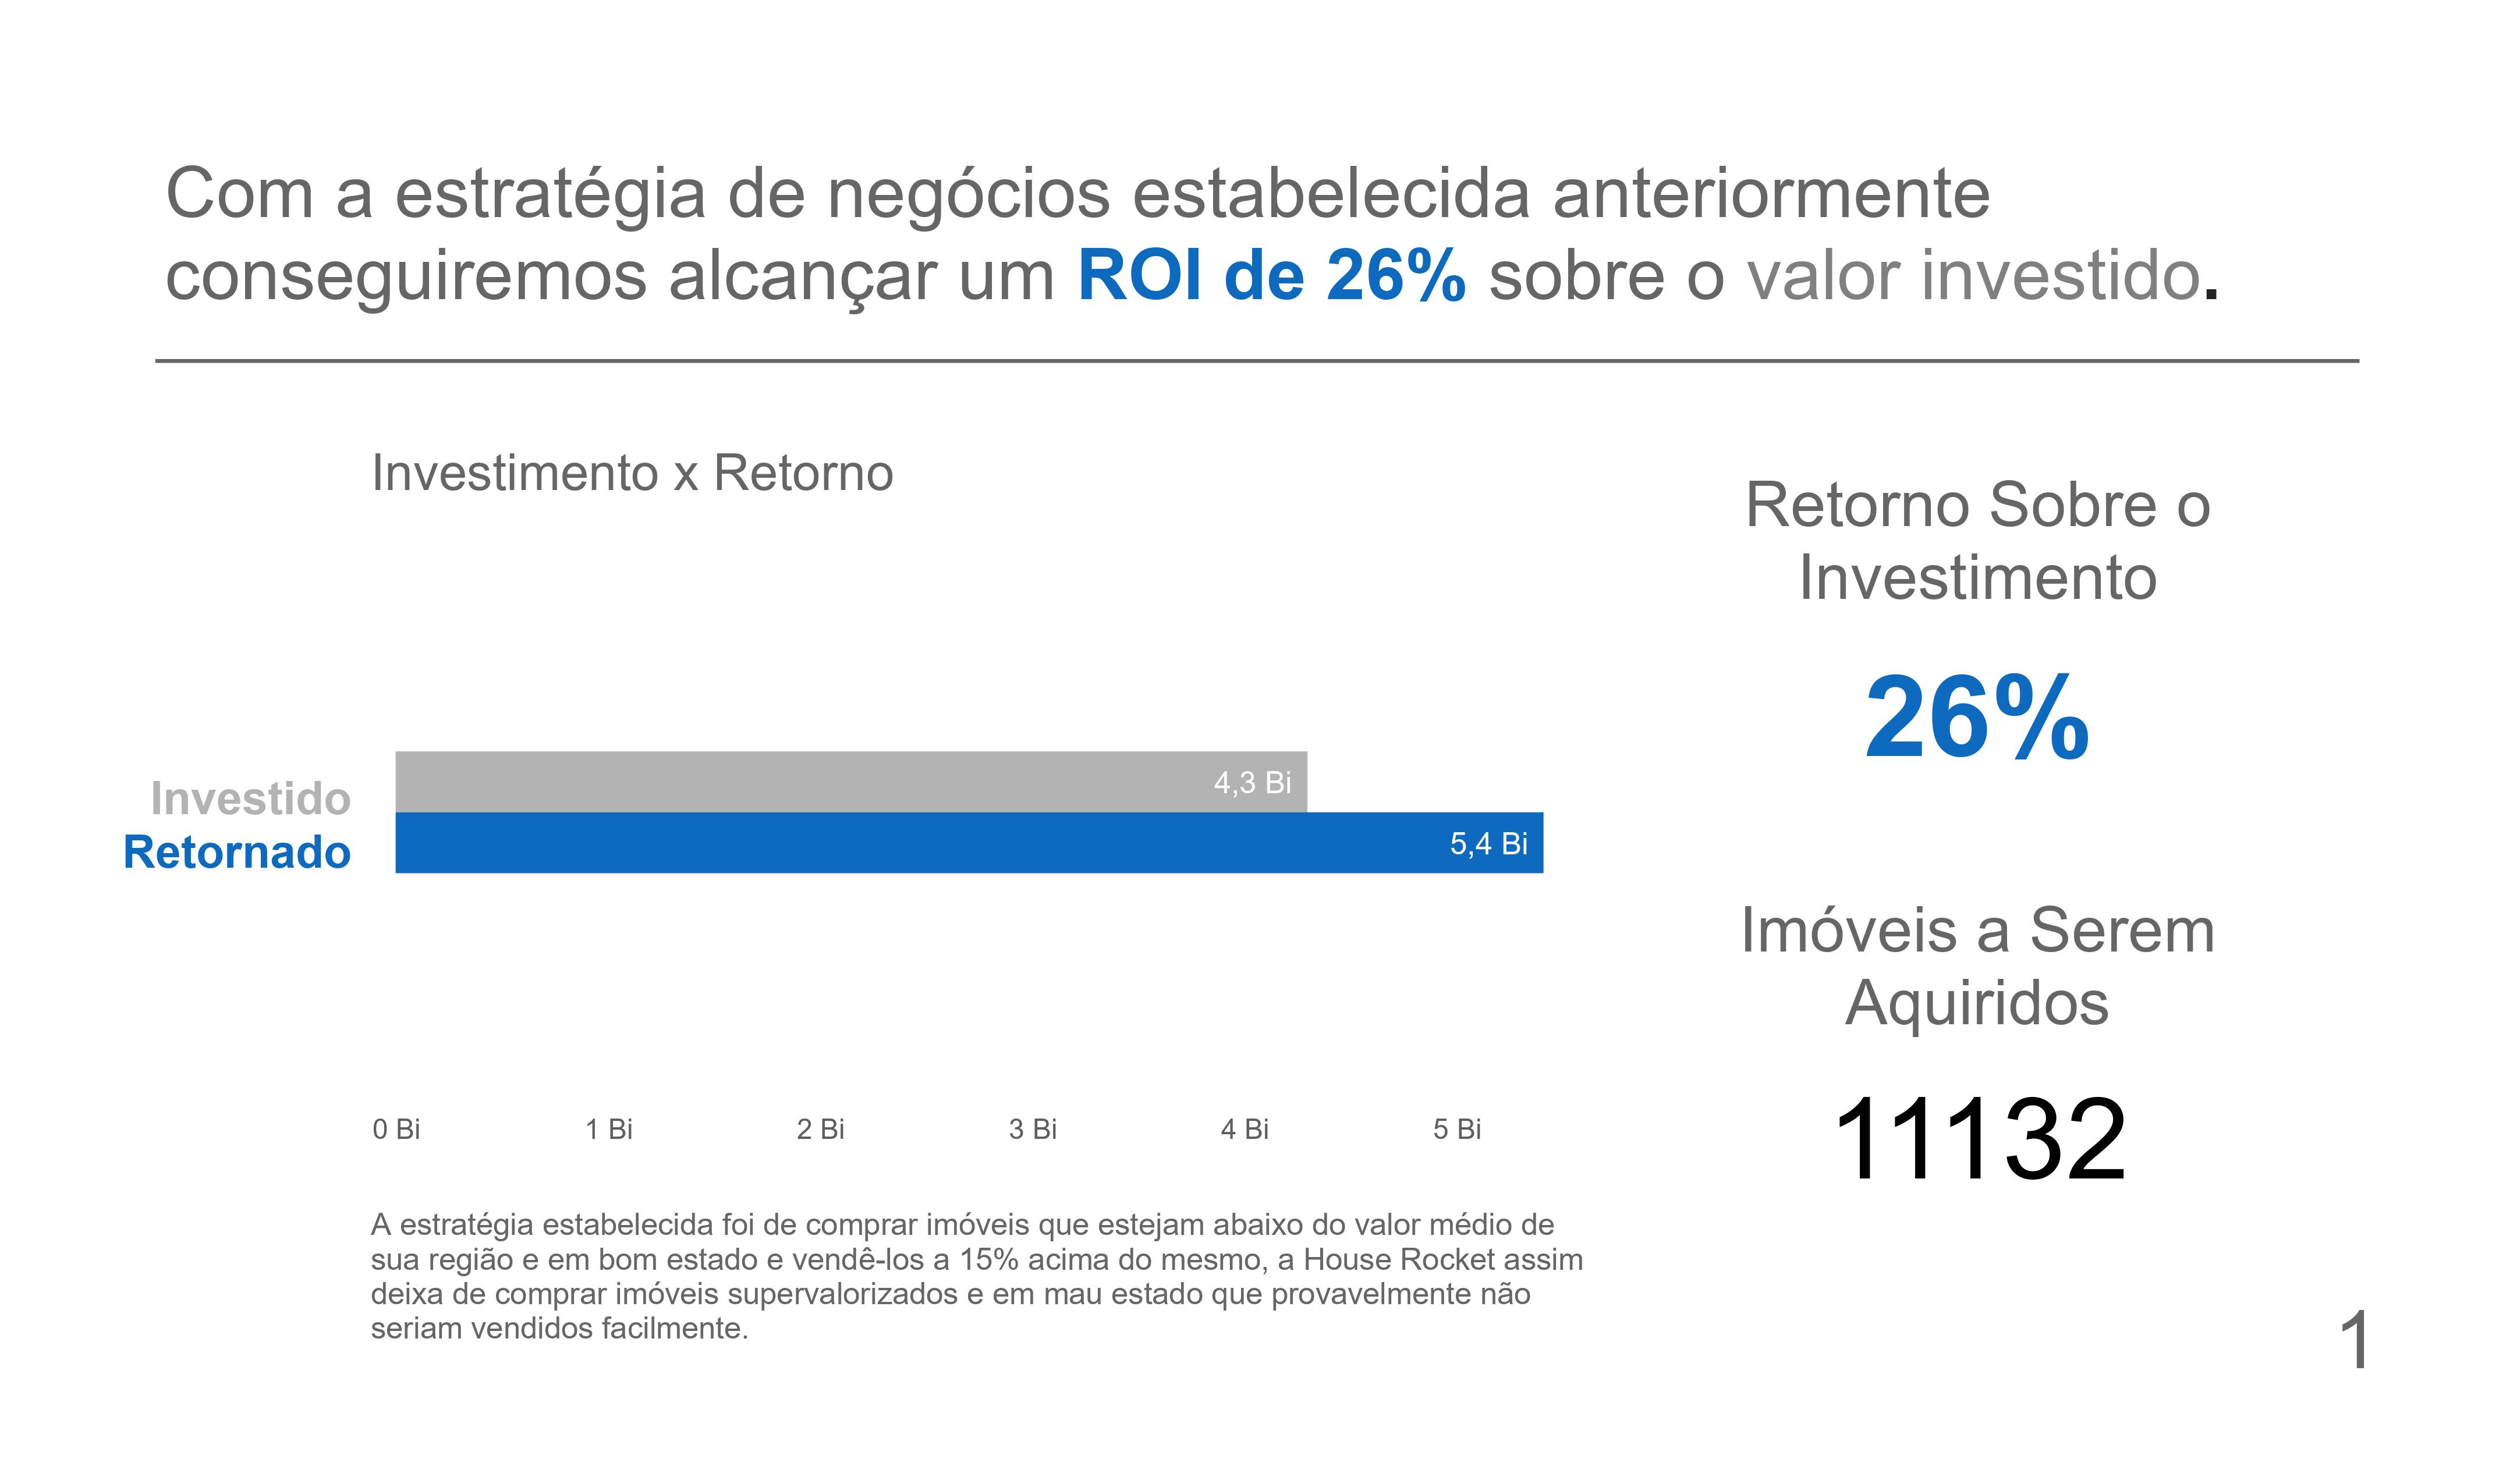

This screenshot's page, from the dashboard's own definition file:
{"tool":"powerbi","page":{"name":"Página 1","canvas":[1280,720],"ordinal":1},"visuals":[{"type":"textbox","box":[66.1,46,1154,103.5],"z":0},{"type":"clusteredBarChart","title":"Investimento x Retorno","fields":{"Y":["Sum(valor_a_vender.price)","Sum(valor_a_vender.valor_venda)"]},"box":[173.9,204.1,646.7,375.1],"z":1000},{"type":"card","title":"Imóveis a Serem Aquiridos","fields":{"Values":["CountNonNull(valor_a_vender.id)"]},"box":[820.6,439.8,399.5,172.5],"z":2000},{"type":"card","title":"Retorno Sobre o Investimento","fields":{"Values":["valor_a_vender.ROI"]},"box":[820.6,217,399.5,175.3],"z":3000},{"type":"textbox","box":[30.2,370.8,143.7,69],"z":4000},{"type":"shape","box":[66.1,149.5,1154,21.6],"z":5000},{"type":"textbox","box":[173.9,599.3,646.7,89.1],"z":6000},{"type":"textbox","box":[1201.4,643.8,63.2,67.5],"z":6001}]}

Visuals, with their boxes on the page's 1280x720 design canvas (x1, y1, x2, y2). These are canvas units, not pixel positions in the 2503x1484 screenshot, which may show the page scaled, cropped or inside an application window:
textbox: [left=66, top=46, right=1220, bottom=150]
"Investimento x Retorno" clusteredBarChart: [left=174, top=204, right=821, bottom=579]
"Imóveis a Serem Aquiridos" card: [left=821, top=440, right=1220, bottom=612]
"Retorno Sobre o Investimento" card: [left=821, top=217, right=1220, bottom=392]
textbox: [left=30, top=371, right=174, bottom=440]
shape: [left=66, top=150, right=1220, bottom=171]
textbox: [left=174, top=599, right=821, bottom=688]
textbox: [left=1201, top=644, right=1265, bottom=711]
